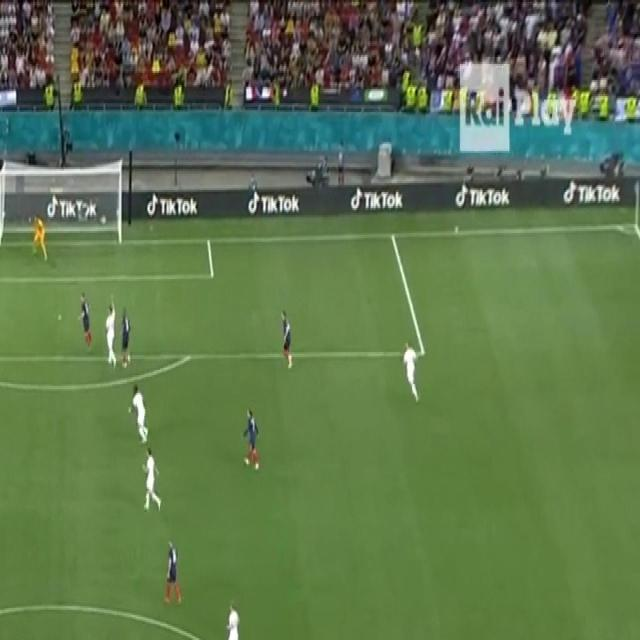player-white: (140, 444, 163, 514), (127, 381, 150, 445), (163, 539, 183, 609), (240, 407, 260, 473), (402, 338, 421, 406), (103, 290, 118, 370), (76, 292, 94, 352), (279, 308, 294, 372), (224, 597, 246, 640), (32, 214, 48, 264), (119, 302, 131, 368)
